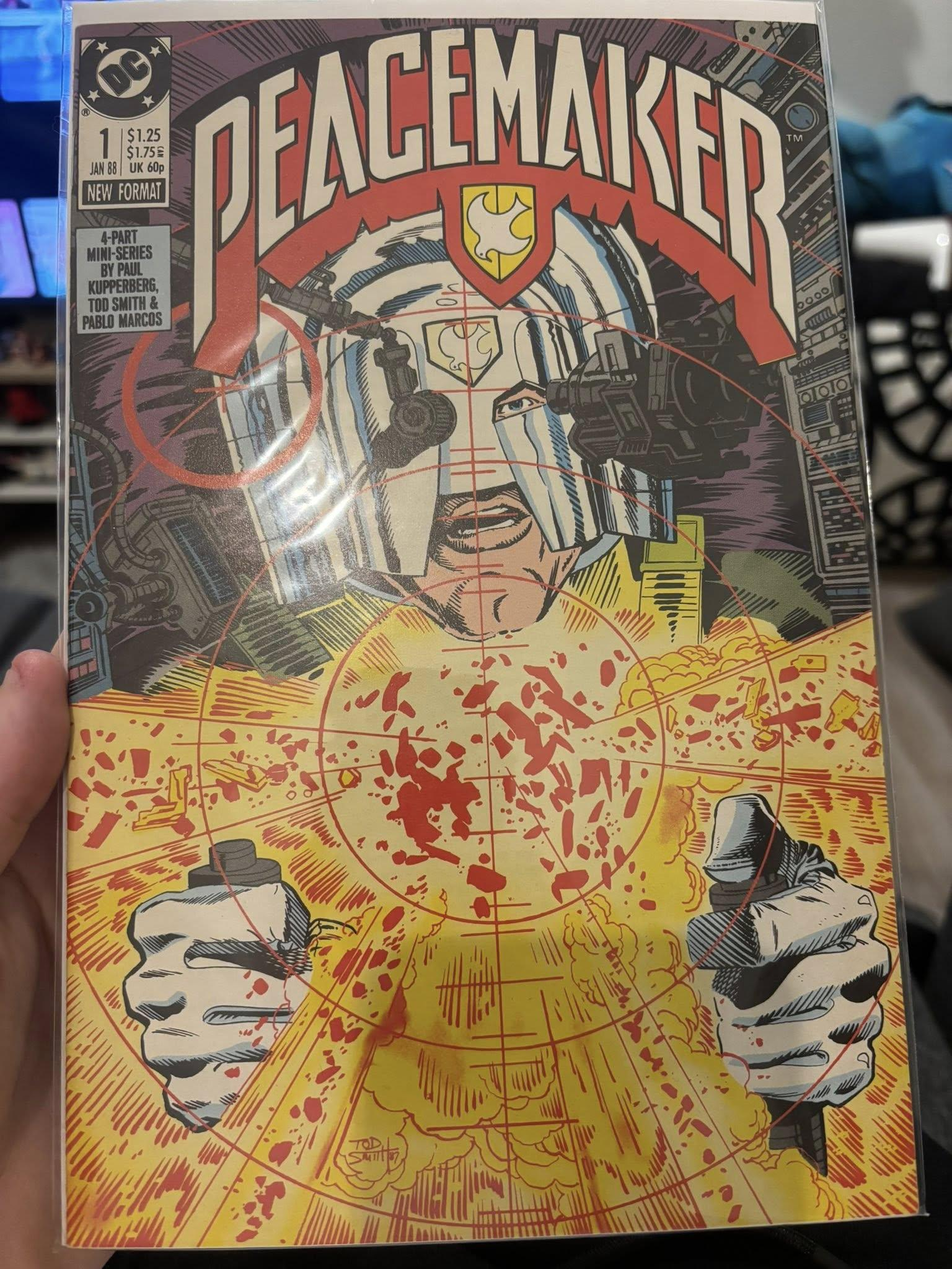comic: (28, 0, 919, 1252)
